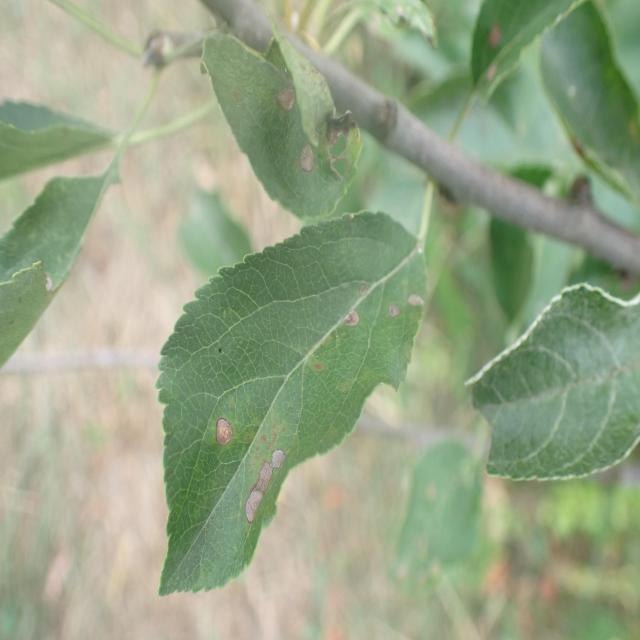frog-eye-leaf-spot: (154, 212, 427, 598), (199, 31, 365, 220)
